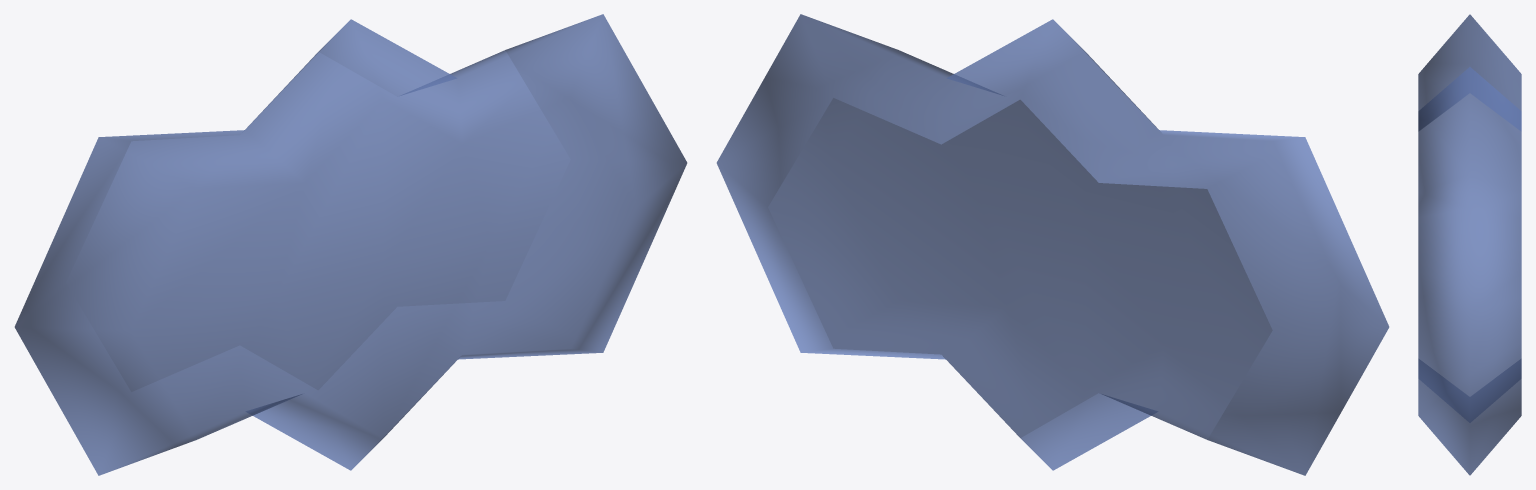
Rendered from Magic Shield.fbx.
3 views of the same model, side by side, from view 1: azimuth 30°, elevation 25°; view 2: azimuth 150°, elevation 25°; view 3: azimuth 270°, elevation 25° (orthographic). The views are drawn at different scales.
Visible parts, largest first — view 1: pCube1; view 2: pCube1; view 3: pCube1.
Part boxes in pixels (x1,y1,x2,y2): pCube1: [14, 14, 687, 475]; pCube1: [716, 14, 1389, 475]; pCube1: [1418, 14, 1521, 475].
Size of the model in its own units: 13.48 by 8.65 by 2.26.
